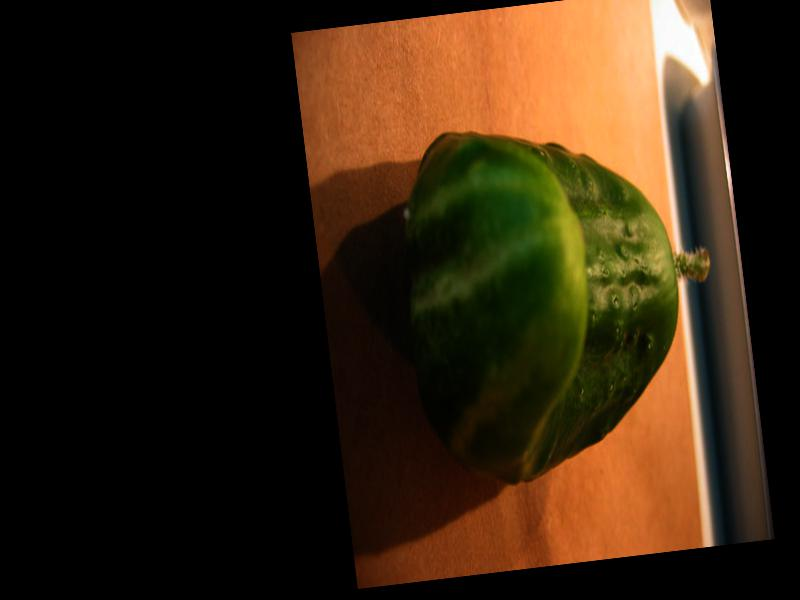Cucumber: (386, 100, 733, 491)
